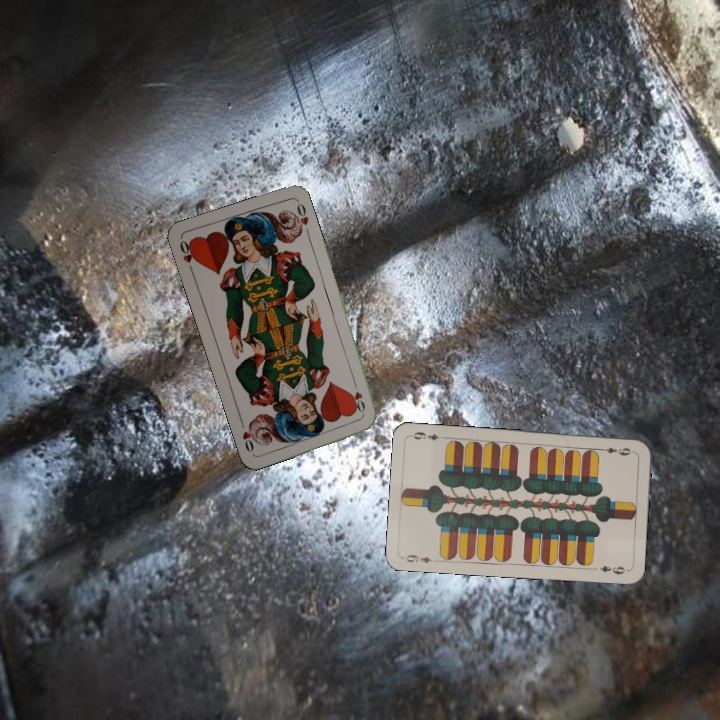E9: (402, 551, 440, 566), (596, 444, 633, 458)
HO: (176, 236, 199, 276), (349, 377, 368, 418)
